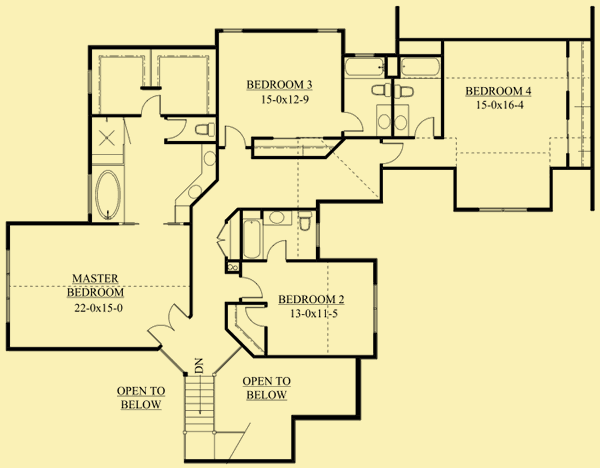door: (142, 303, 186, 346), (221, 125, 250, 152), (380, 141, 406, 168), (237, 275, 265, 299), (340, 112, 366, 135), (264, 238, 289, 260), (243, 306, 266, 329), (215, 223, 230, 257), (165, 116, 188, 138), (414, 116, 436, 139), (138, 94, 163, 114)
large_sink: (189, 121, 219, 140), (366, 81, 393, 99), (295, 211, 315, 234), (393, 83, 417, 101)
small_sink: (172, 175, 204, 206), (199, 144, 218, 178), (393, 104, 411, 136), (376, 104, 392, 136), (262, 210, 292, 227)
stairs: (180, 372, 218, 460)
tub: (89, 162, 127, 224), (401, 57, 441, 80), (344, 57, 387, 78), (242, 217, 264, 258)
window: (372, 283, 379, 333), (480, 207, 528, 214)
